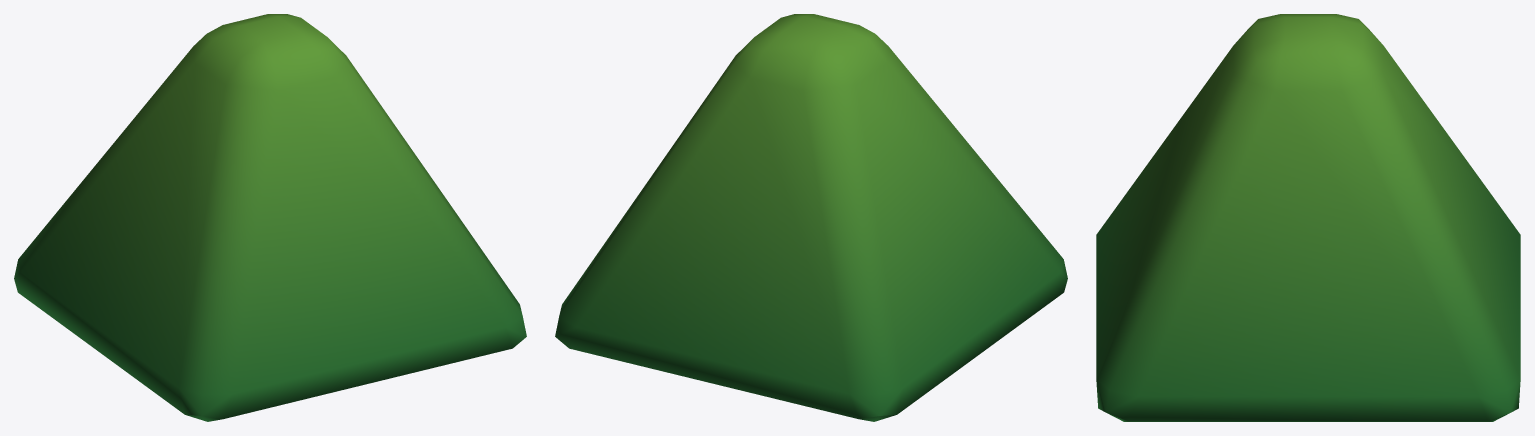
File: Bush_4_C.glb
3 renders of one model, left to right at view 1: azimuth 30°, elevation 25°; view 2: azimuth 150°, elevation 25°; view 3: azimuth 270°, elevation 25°, orthographic. The views are drawn at different scales.
Size of the model in its own units: 1.58 by 1.3 by 1.58.
